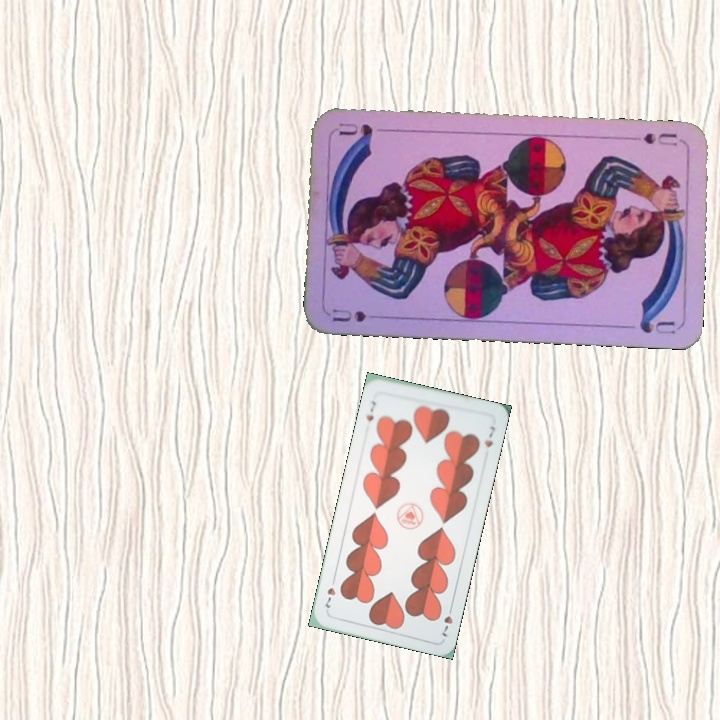H7: (438, 601, 456, 639), (362, 397, 379, 424)
SU: (328, 304, 387, 325), (625, 128, 680, 149)
